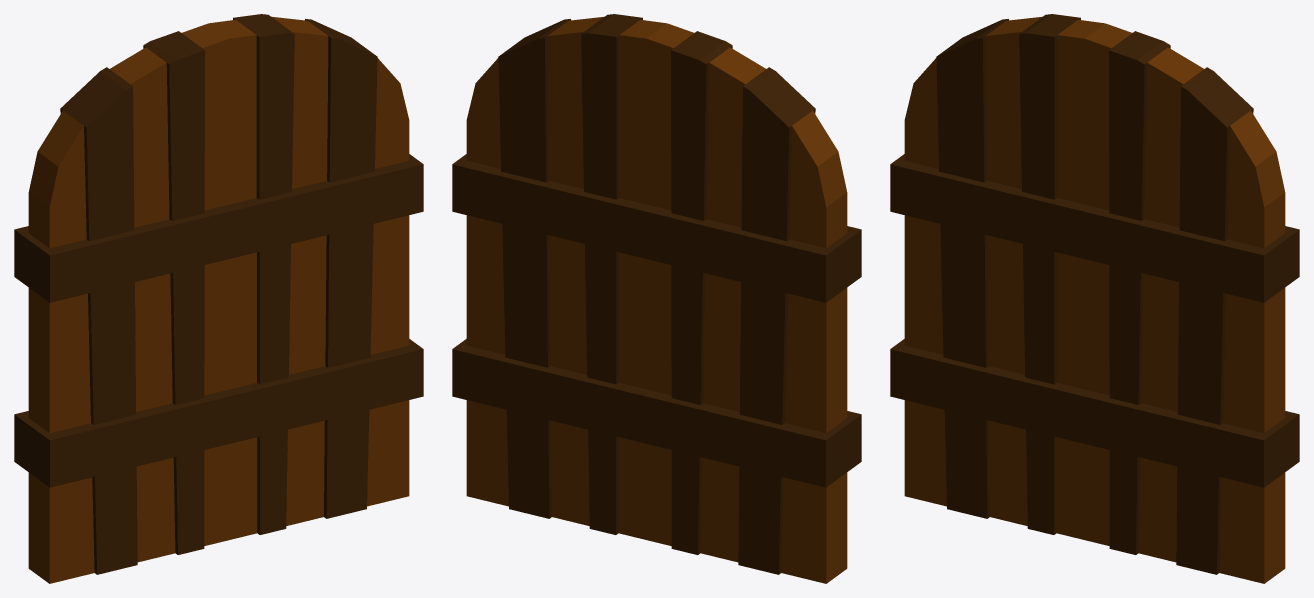
The model's file is door.fbx.
The picture shows the model from 3 angles, left to right: view 1: azimuth 30°, elevation 25°; view 2: azimuth 150°, elevation 25°; view 3: azimuth 330°, elevation 25°; orthographic projection.
Visible parts, largest first — view 1: Cube; view 2: Cube; view 3: Cube.
Part boxes in pixels (x1=…): Cube: x1=14, y1=14, x2=423, y2=583; Cube: x1=452, y1=14, x2=861, y2=583; Cube: x1=890, y1=14, x2=1299, y2=583.
Size of the model in its own units: 208 by 34.28 by 266.
